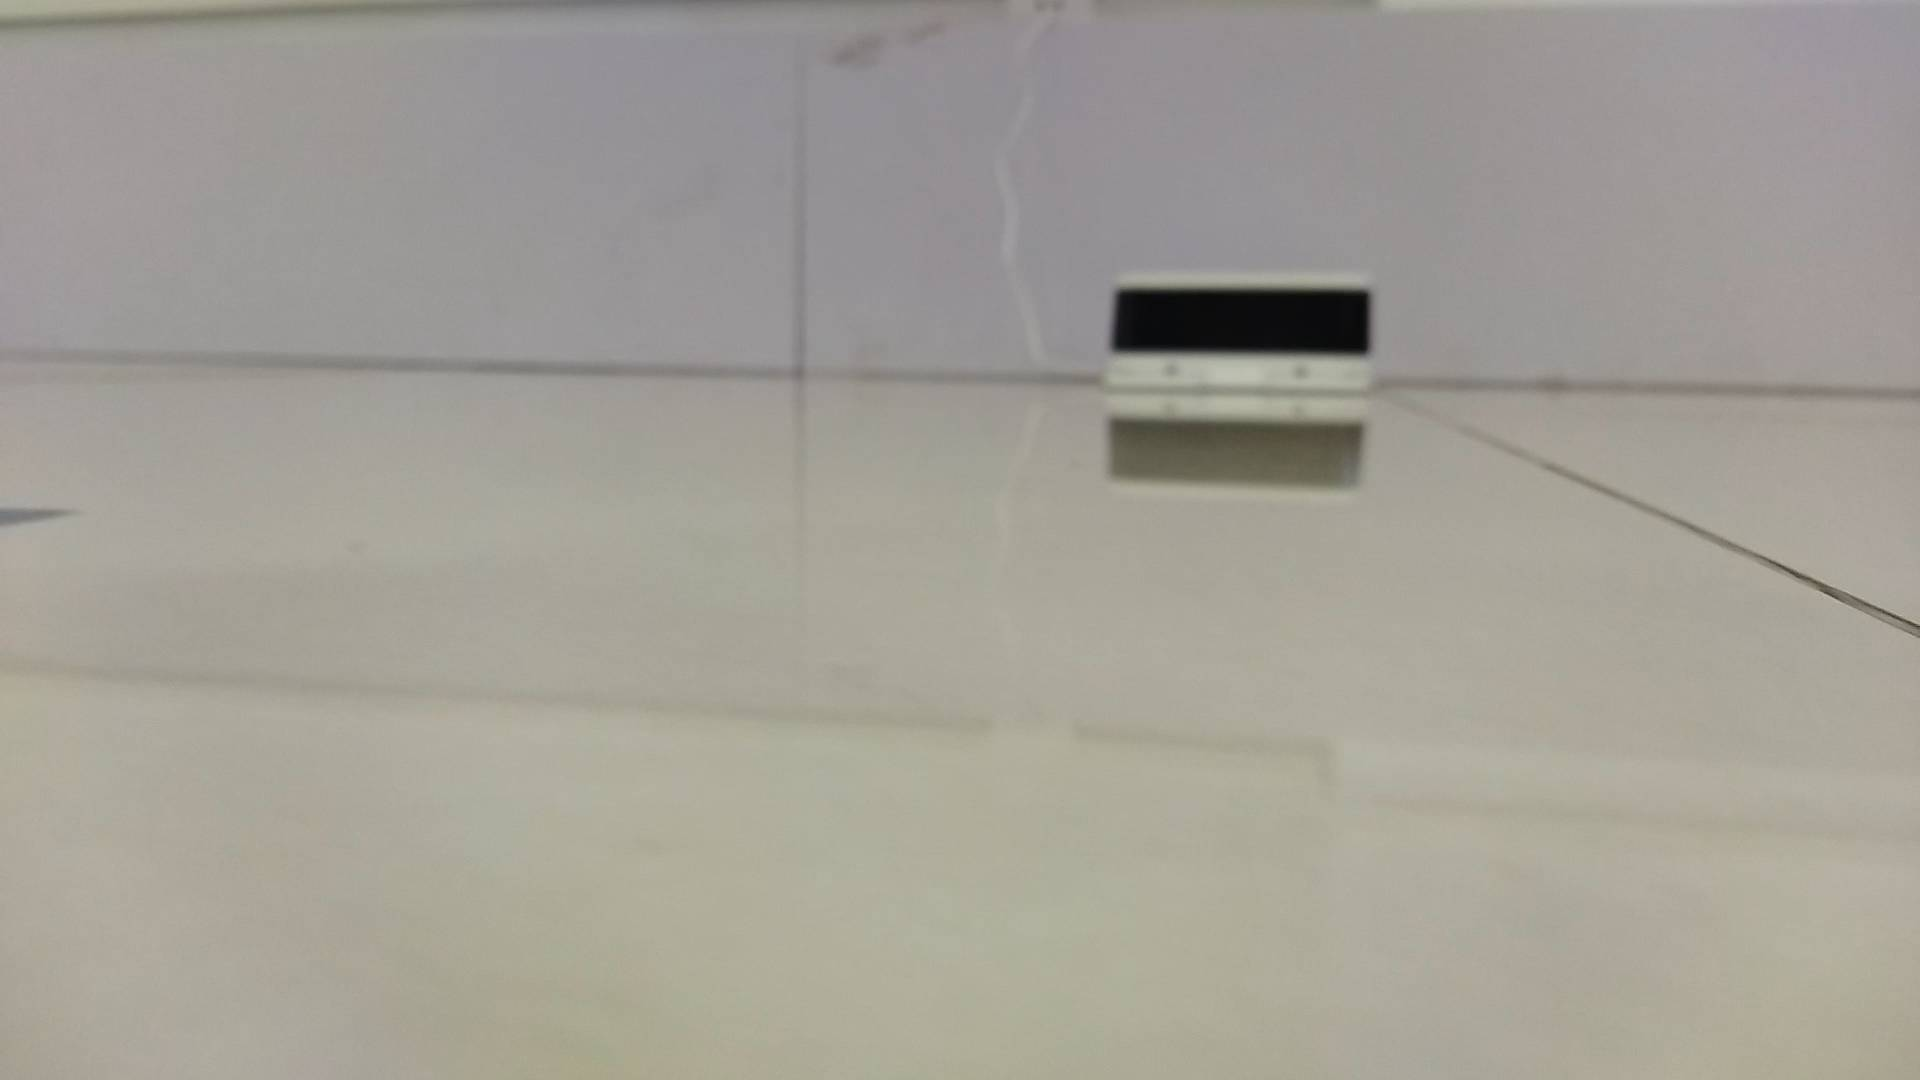recharge seat: (1100, 268, 1389, 422)
